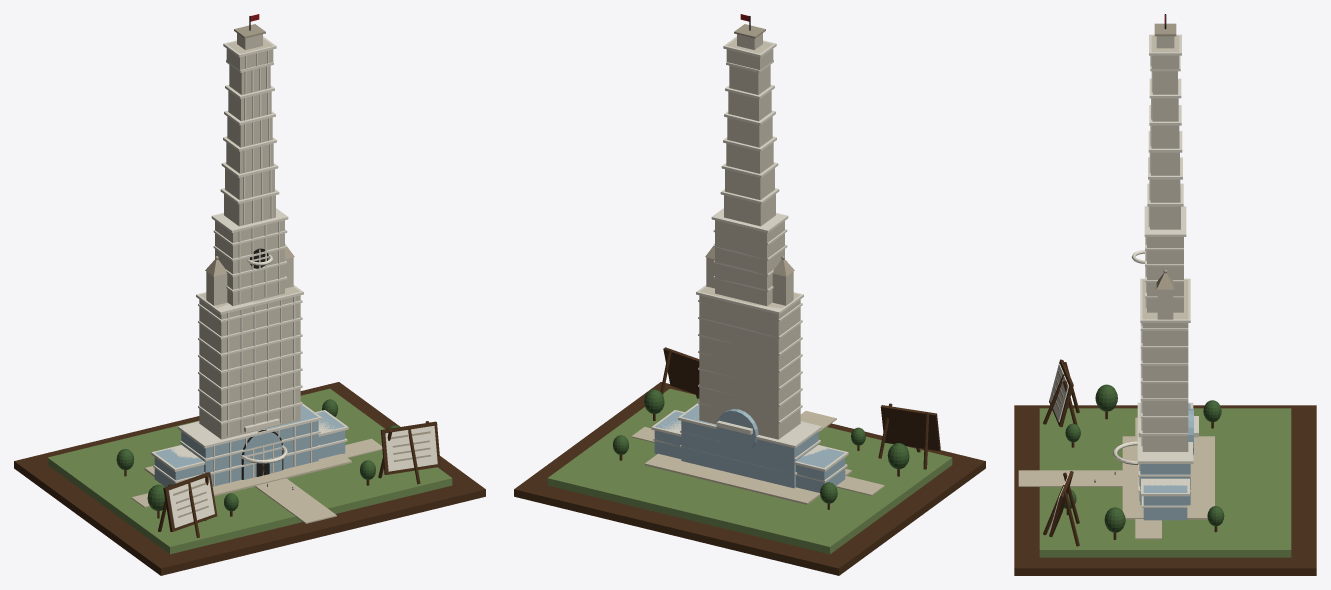
Rendered from scan-fig63-proposed-tower-1000ft-muse.glb.
3 views of the same model, side by side, from view 1: azimuth 30°, elevation 25°; view 2: azimuth 150°, elevation 25°; view 3: azimuth 270°, elevation 25° (orthographic). The views are drawn at different scales.
Visible parts, largest first — view 1: Plinth, Baseboard, Tier1_core, Tier2_core, Palace_core, BoardR_paper, PathMain, Terrace, BoardL_paper, Palace_cornice, Shaft0_core, Wing-1_core (+14 smaller); view 2: Plinth, Baseboard, Tier1_core, Palace_core, Tier2_core, Terrace, BoardL_back, Wing-1_core, Shaft0_core, TranseptVault, BoardR_back, Shaft1_core (+10 smaller); view 3: Plinth, Baseboard, Tier1_core, Terrace, Tier2_core, PathMain, Wing1_core, Palace_cornice, Shaft0_core, Shaft1_core, Palace_core, Shaft2_core (+13 smaller).
Boxes of the visible parts, x1,y1,x2,y2 form: Plinth: (47, 388, 452, 554); Baseboard: (14, 382, 485, 575); Tier1_core: (199, 286, 300, 439); Tier2_core: (215, 220, 284, 305); Palace_core: (181, 405, 318, 486); BoardR_paper: (385, 426, 437, 471); PathMain: (255, 478, 336, 523); Terrace: (144, 453, 351, 496); BoardL_paper: (168, 477, 214, 528); Palace_cornice: (178, 403, 321, 448); Shaft0_core: (224, 189, 275, 226); Wing-1_core: (154, 448, 203, 487); Plinth: (547, 388, 952, 554); Baseboard: (514, 382, 985, 575); Tier1_core: (699, 286, 800, 439); Palace_core: (681, 404, 818, 488); Tier2_core: (715, 220, 784, 305); Terrace: (644, 453, 851, 504); BoardL_back: (880, 405, 940, 450); Wing-1_core: (796, 448, 845, 492); Shaft0_core: (724, 189, 775, 226); TranseptVault: (716, 409, 758, 453); BoardR_back: (663, 347, 699, 395); Shaft1_core: (725, 163, 774, 199); Plinth: (1039, 408, 1291, 557); Baseboard: (1014, 405, 1316, 575); Tier1_core: (1142, 279, 1188, 451); Terrace: (1122, 436, 1214, 519); Tier2_core: (1147, 237, 1183, 312); PathMain: (1018, 470, 1122, 486); Wing1_core: (1143, 485, 1187, 520); Palace_cornice: (1137, 402, 1193, 463); Shaft0_core: (1150, 187, 1180, 229); Shaft1_core: (1150, 158, 1180, 202); Palace_core: (1140, 403, 1190, 505); Shaft2_core: (1151, 132, 1179, 175).
Bounding box in the file's own units: 2.3 × 3.15 × 1.8.
